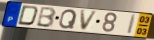8: (102, 12, 118, 34)
B: (35, 6, 57, 28)
D: (16, 5, 40, 27)
I: (126, 14, 138, 36)
Q: (58, 9, 78, 30)
V: (80, 10, 99, 32)
